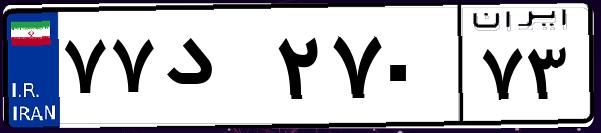0: (385, 28, 445, 110)
2: (270, 28, 330, 110)
3: (525, 38, 570, 115)
7: (330, 28, 385, 110), (57, 26, 110, 100), (475, 38, 525, 113), (110, 28, 158, 98)
د: (158, 20, 270, 120)
